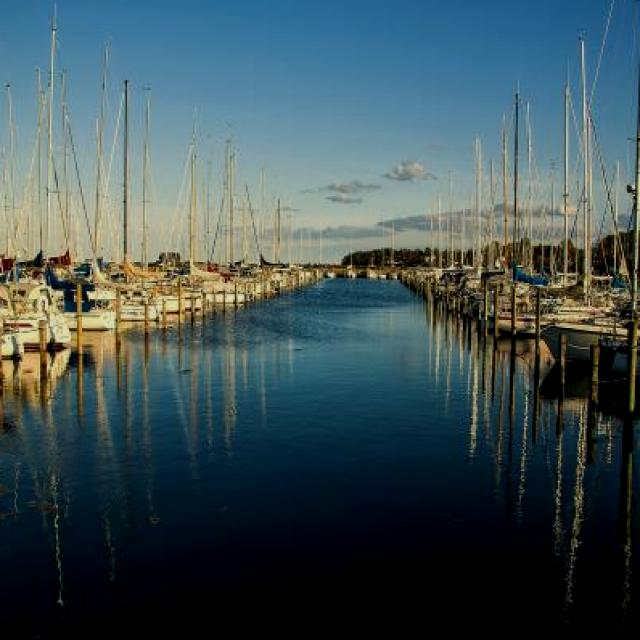ship: (485, 80, 633, 332), (537, 26, 640, 360), (0, 64, 72, 345), (85, 78, 164, 322), (466, 110, 556, 323), (45, 69, 117, 327), (161, 103, 249, 305), (244, 148, 292, 286), (434, 196, 487, 296), (407, 192, 453, 281), (276, 197, 313, 279)
